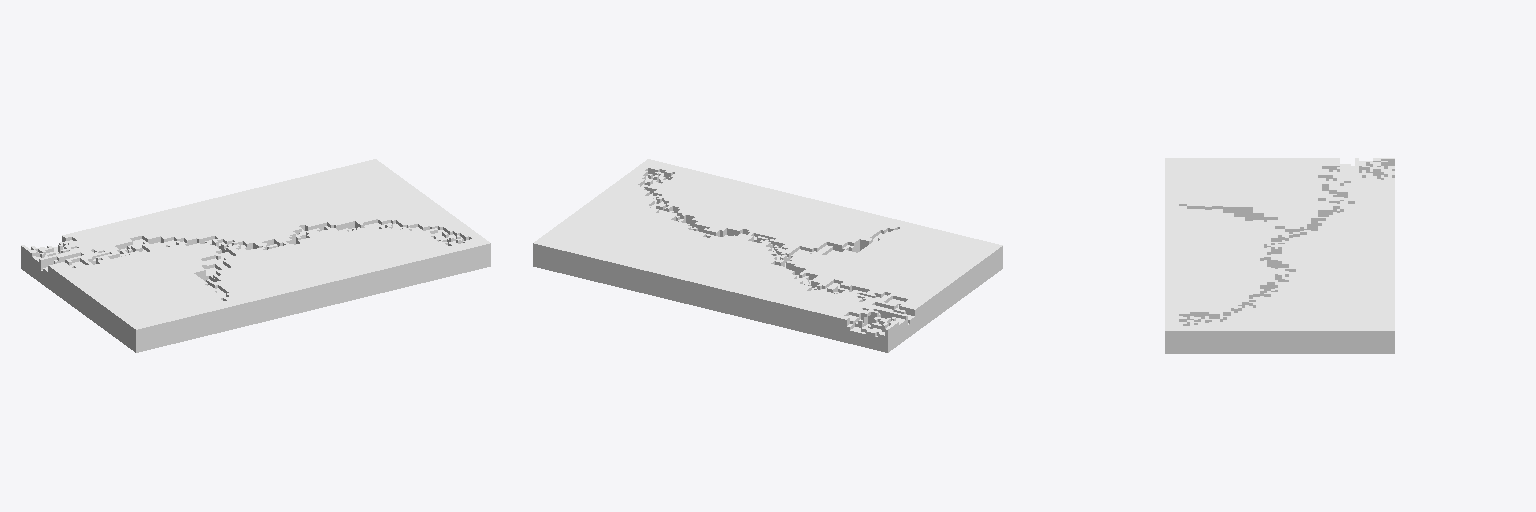
The model's file is big_floors.obj.
3 views of the same model, side by side, from view 1: azimuth 30°, elevation 25°; view 2: azimuth 150°, elevation 25°; view 3: azimuth 270°, elevation 25° (orthographic).
Size of the model in its own units: 112 by 7 by 63.